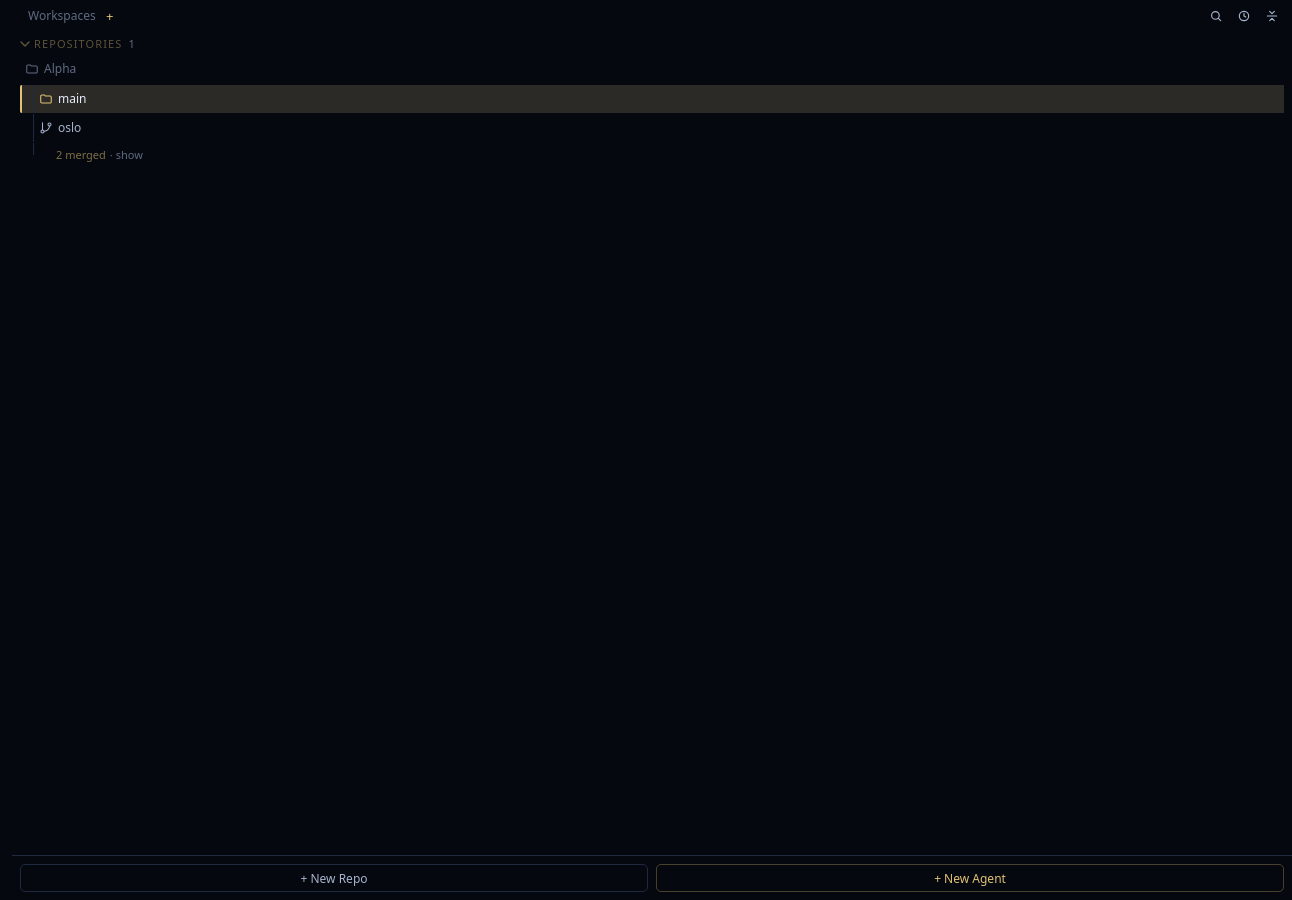
repo tree › folds merged worktrees behind one row and reveals them on click
Click the button with aria-label "Show 2 merged workspaces": (85, 155) [20,143,151,167]
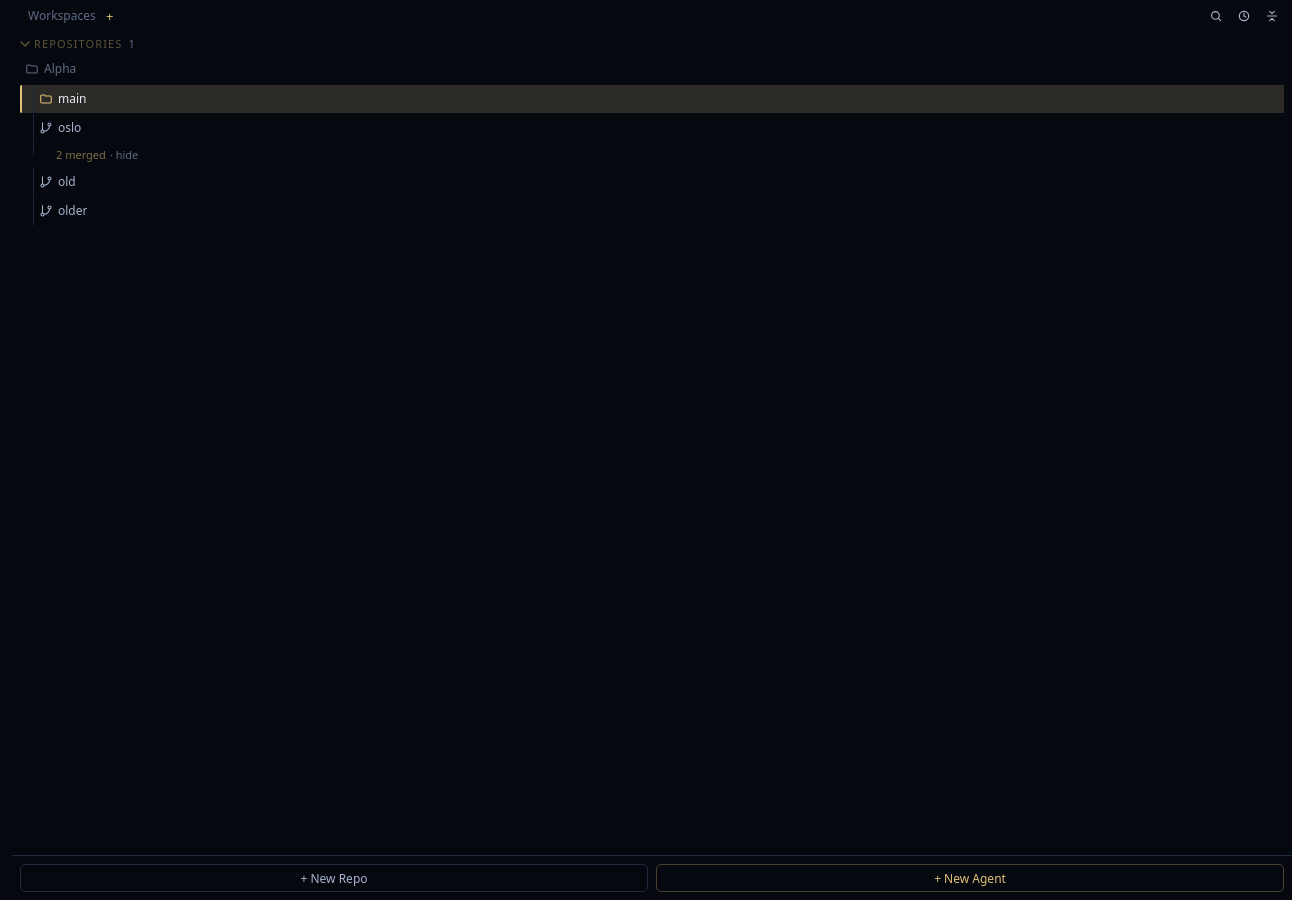
expect the button with aria-label "Hide 2 merged workspaces" is shown: met, box [20,143,146,167]
